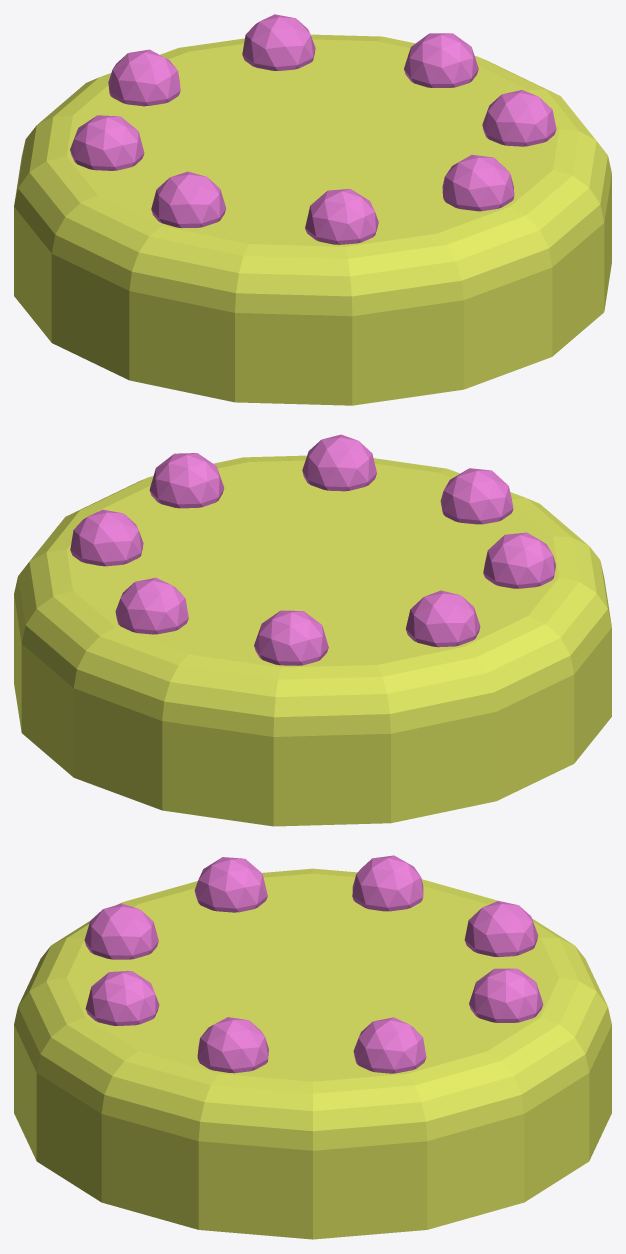
The model's file is cake.fbx.
The picture shows the model from 3 angles, top to bottom: view 1: azimuth 30°, elevation 25°; view 2: azimuth 150°, elevation 25°; view 3: azimuth 270°, elevation 25°; orthographic projection.
Visible parts, largest first — view 1: Circle.004, Circle.014, Circle.018, Circle.002, Circle.017, Circle.009, Circle.008, Circle.010; view 2: Circle.009, Circle.002, Circle.008, Circle.014, Circle.010, Circle.018, Circle.004, Circle.017; view 3: Circle.010, Circle.017, Circle.008, Circle.018, Circle.004, Circle.009, Circle.002, Circle.014.
Part boxes in pixels (x1,y1,x2,y2): Circle.004: [235, 143, 463, 405]; Circle.014: [51, 142, 312, 402]; Circle.018: [313, 142, 604, 389]; Circle.002: [14, 115, 311, 342]; Circle.017: [314, 89, 611, 310]; Circle.009: [38, 48, 312, 142]; Circle.008: [179, 14, 381, 142]; Circle.010: [313, 33, 555, 142]; Circle.009: [162, 564, 390, 826]; Circle.002: [313, 563, 574, 823]; Circle.008: [21, 563, 312, 810]; Circle.014: [313, 532, 611, 762]; Circle.010: [14, 509, 312, 731]; Circle.018: [244, 434, 446, 562]; Circle.004: [313, 468, 588, 563]; Circle.017: [72, 453, 312, 563]; Circle.010: [313, 978, 524, 1239]; Circle.017: [101, 978, 312, 1239]; Circle.008: [313, 968, 611, 1202]; Circle.018: [14, 971, 312, 1202]; Circle.004: [18, 901, 312, 1005]; Circle.009: [313, 901, 607, 1005]; Circle.002: [313, 855, 497, 977]; Circle.014: [125, 857, 312, 977].
Size of the model in its own units: 200 by 64.1 by 200.
